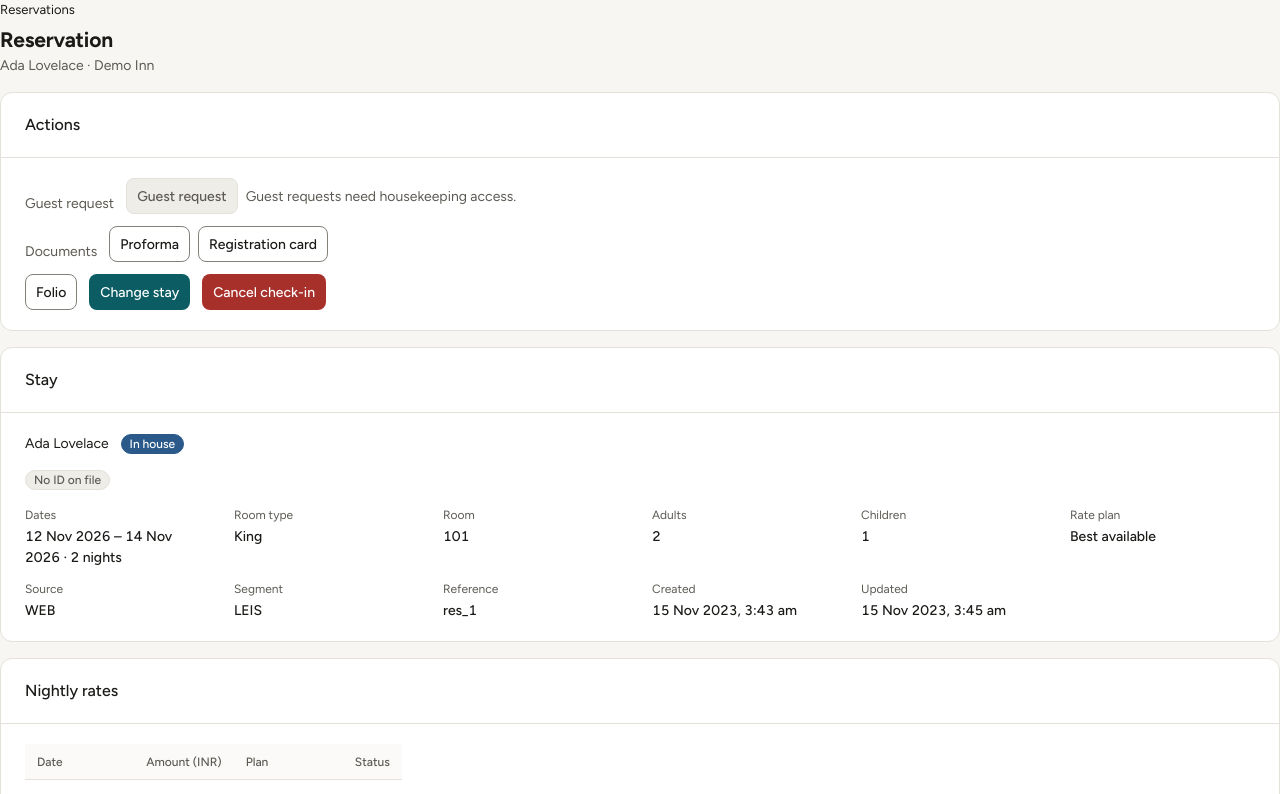
Test: ReservationStayScreen › type-change room_already_assigned names the occupied room
Click the button with test id "stay-change-stay" at [140, 292], box [89, 274, 190, 310]
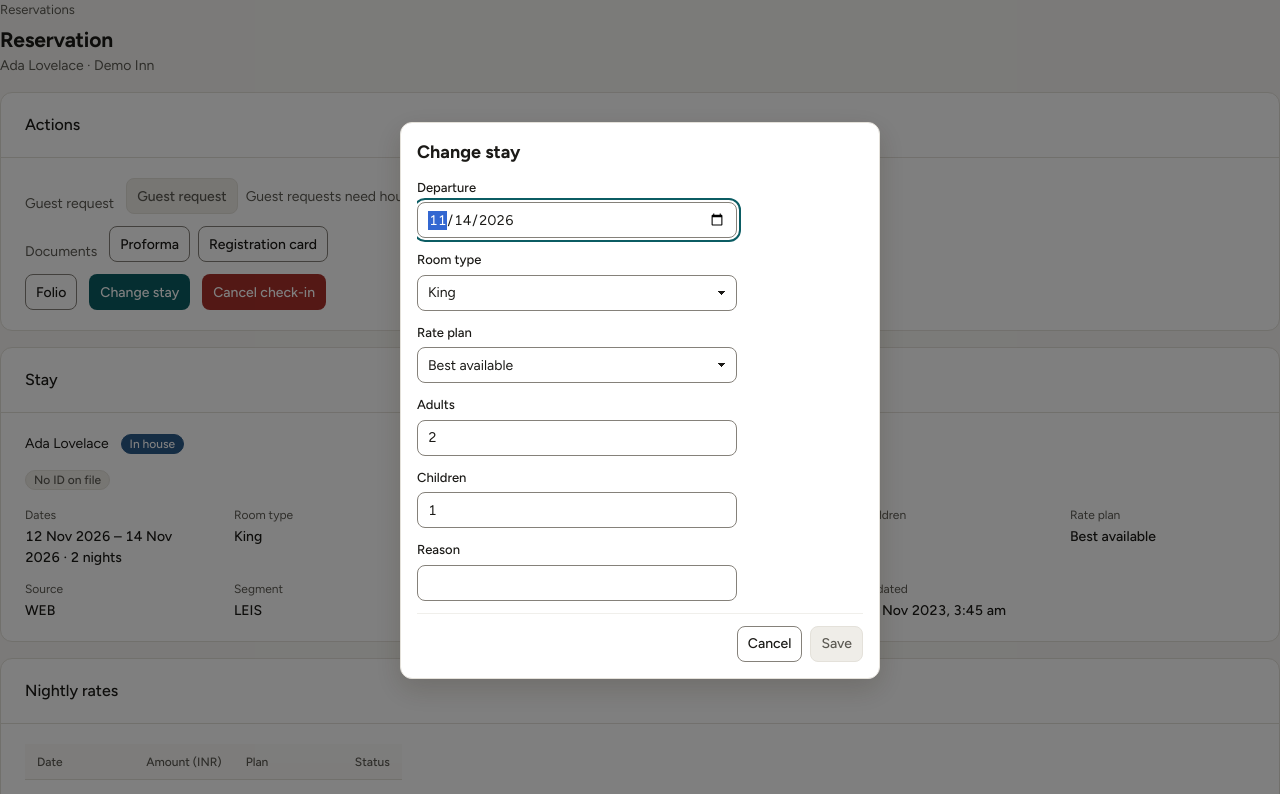
Select "Twin" in the dropdown with test id "change-room-type" at [577, 292], box [417, 274, 737, 310]
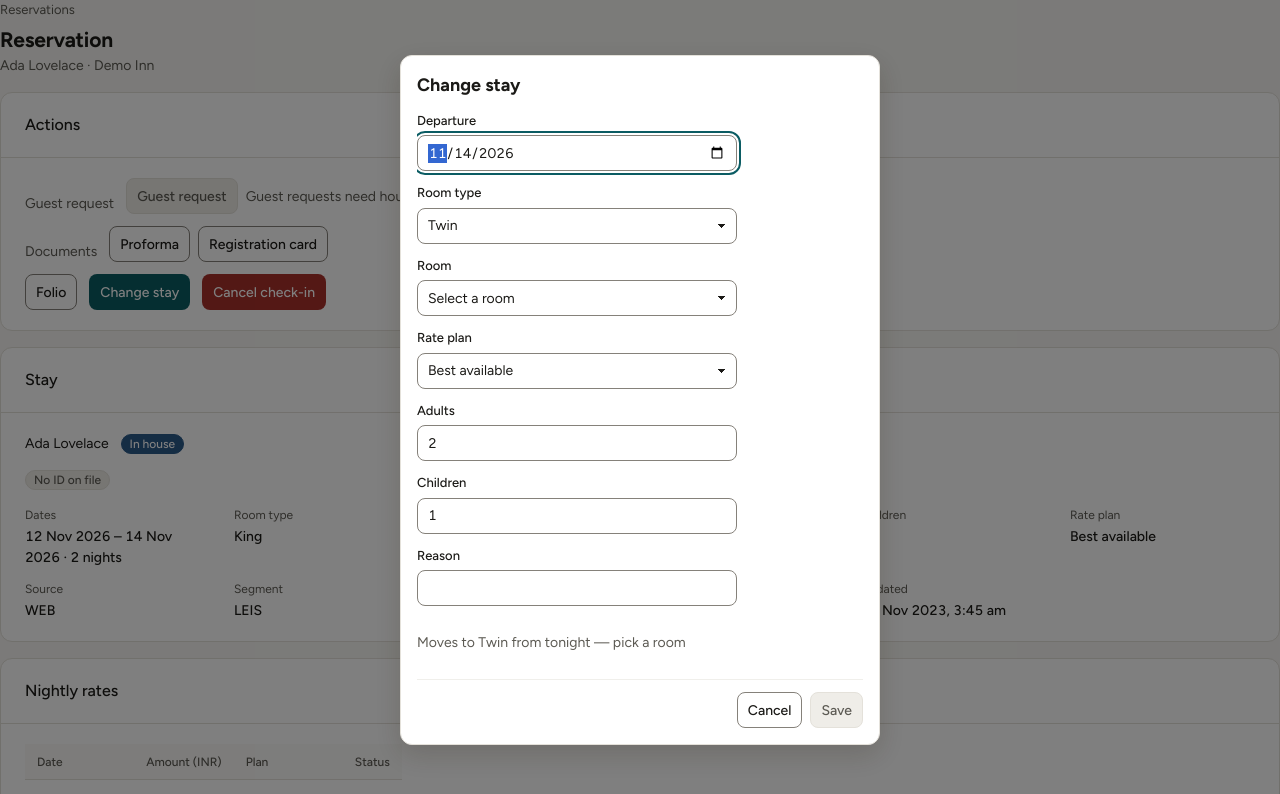
Select "206" in the dropdown with test id "change-room" at [577, 298], box [417, 280, 737, 316]
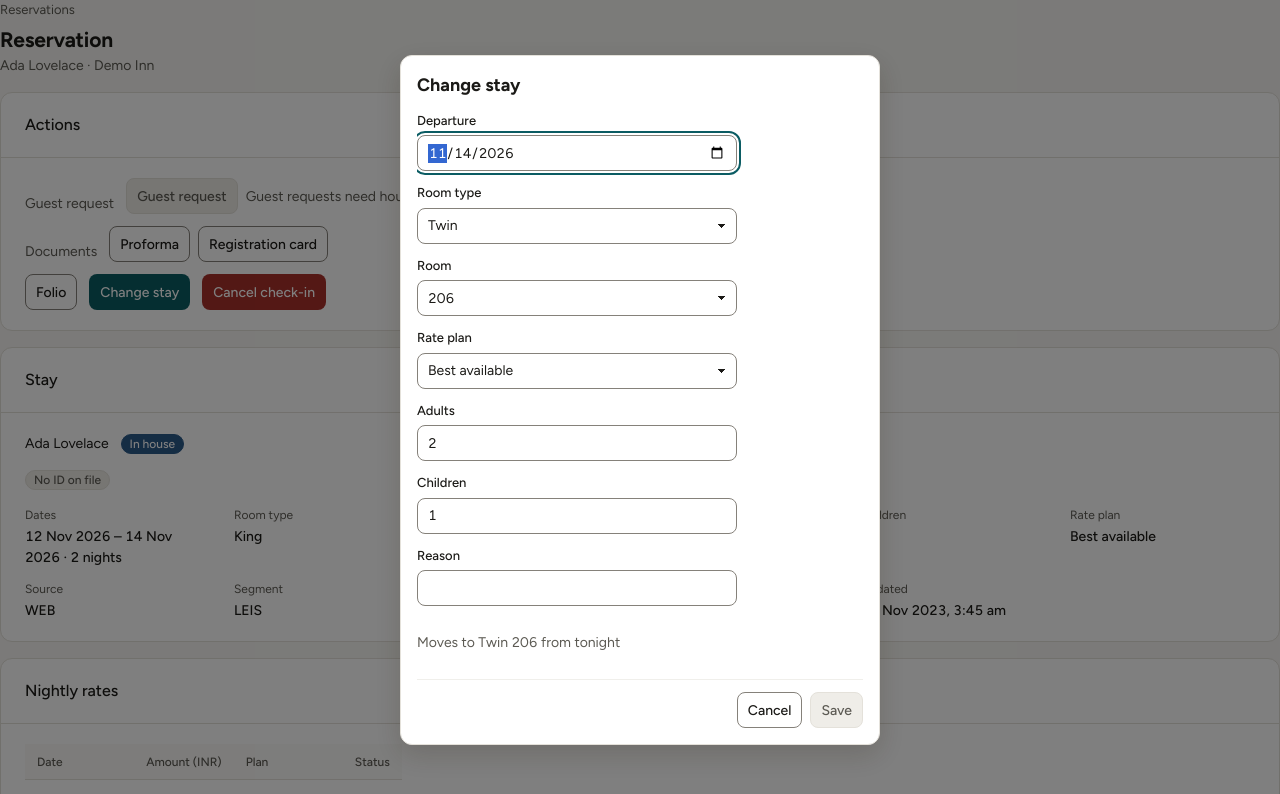
Type "Upgrade" into the field with test id "change-reason" at [577, 588], box [417, 570, 737, 606]
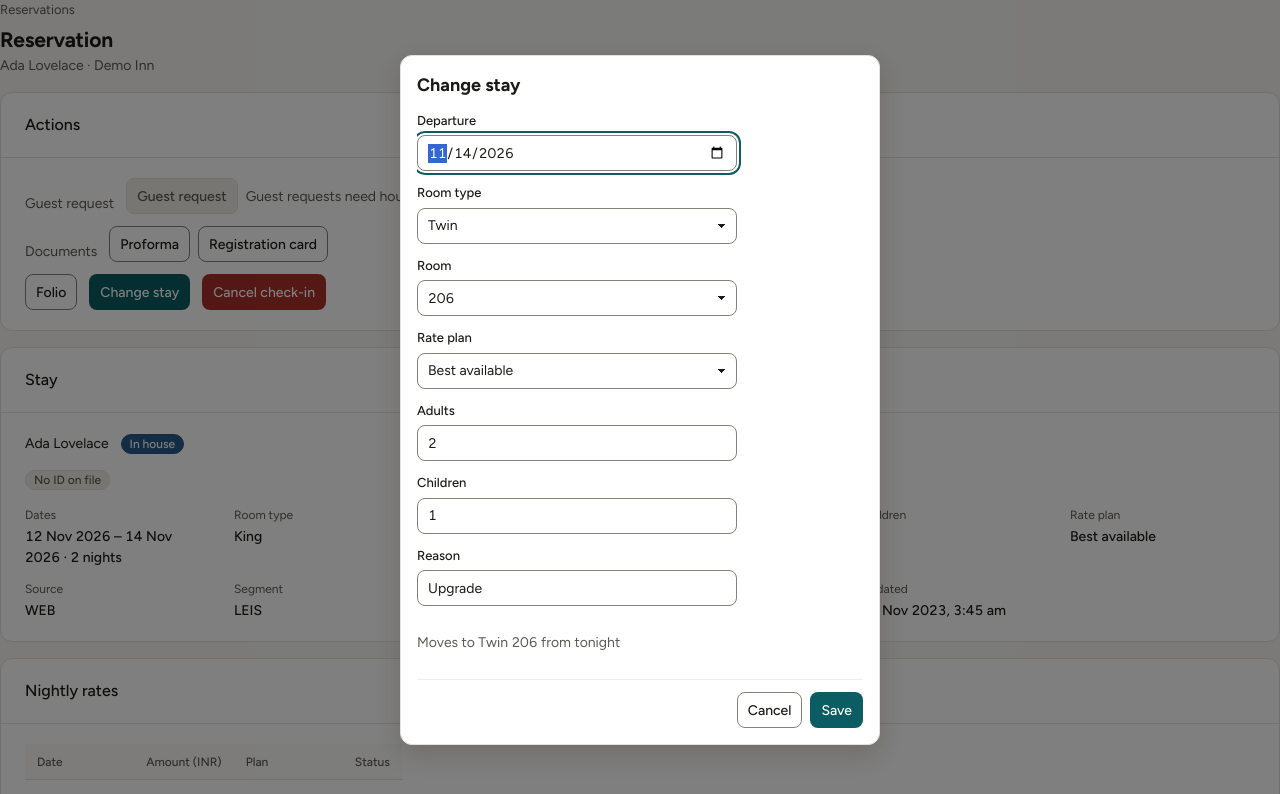
Click the button with test id "change-stay-save" at [837, 710], box [810, 692, 863, 728]
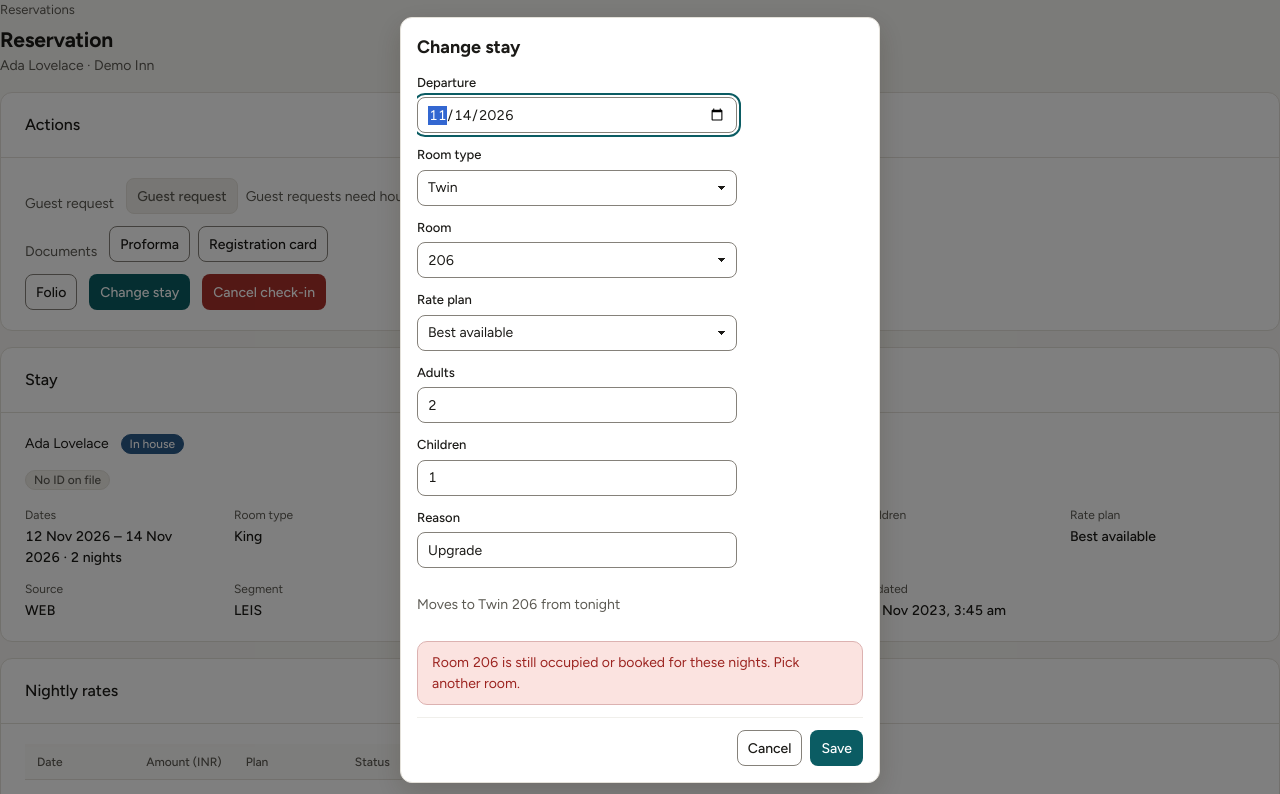
Expected: the message reads "Room 206 is still occupied or booked for these nights. Pick another room.", [432, 654, 799, 692]
